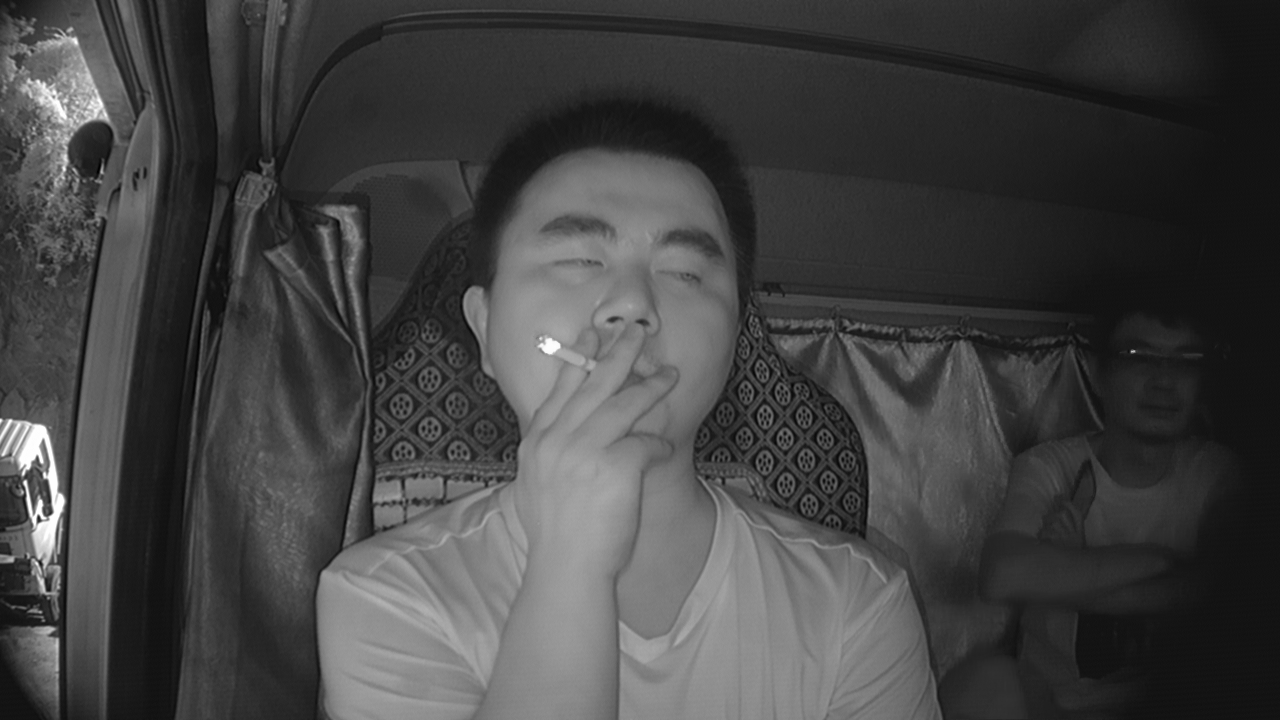hand: (527, 316, 672, 504)
